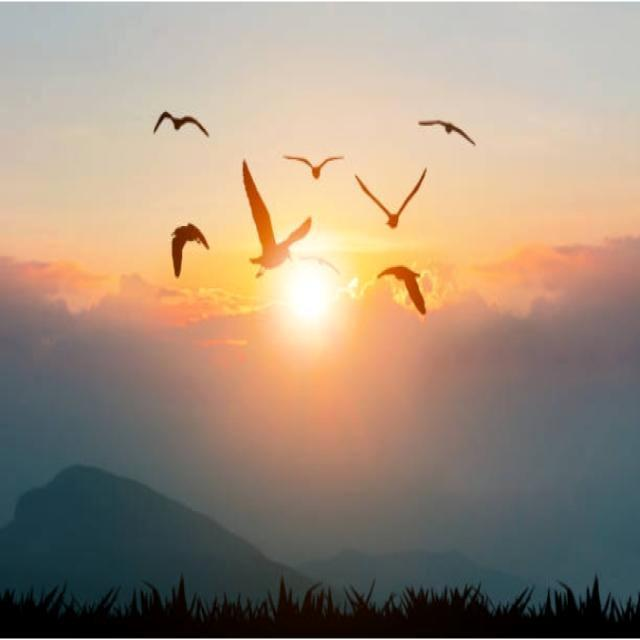bird: (242, 163, 303, 274), (356, 170, 432, 236), (163, 210, 213, 278), (372, 260, 436, 311), (152, 95, 211, 150), (416, 109, 484, 153), (278, 146, 346, 186)
